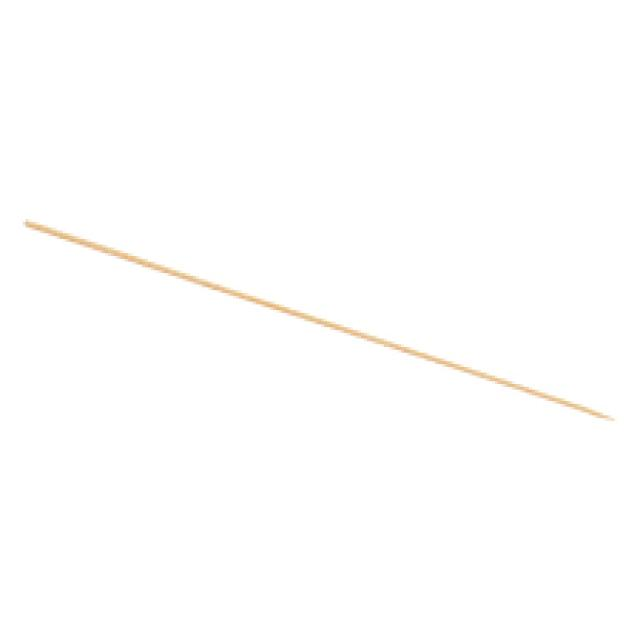stick: (25, 222, 611, 419)
